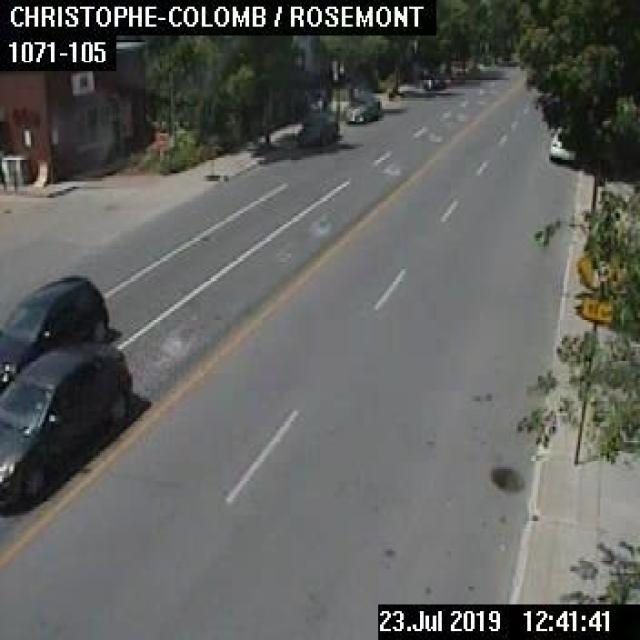vehicle: (0, 343, 131, 508), (0, 274, 109, 354), (295, 116, 337, 144), (548, 125, 575, 159), (344, 95, 378, 122)
